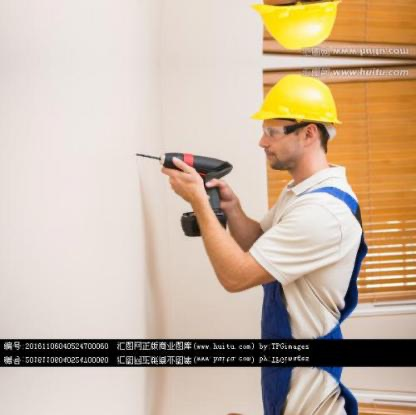Safety Helmet: (248, 71, 351, 181), (250, 1, 359, 48)
